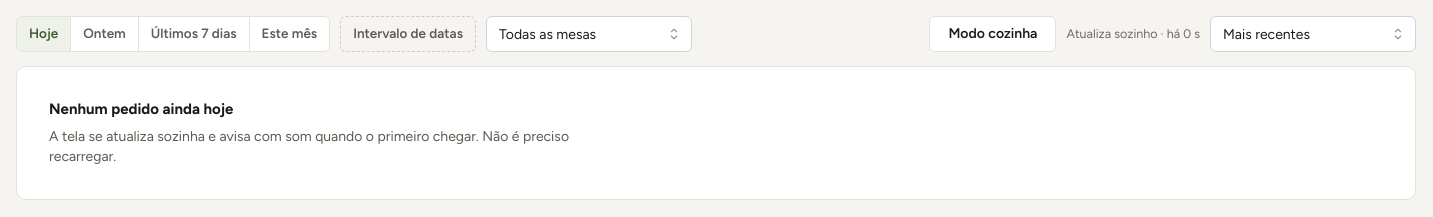
OrdersPage › filtro de mesa só aparece quando a loja tem mesas
The width and height of the screenshot is (1433, 217).
Click the dropdown named "Mesa".
click(589, 34)  # box [486,16,692,52]
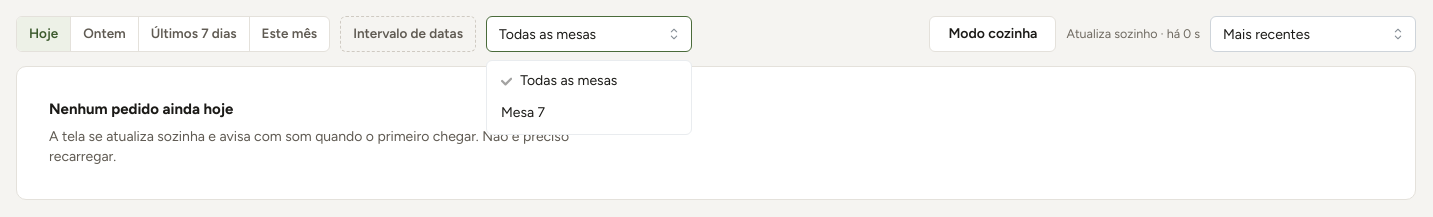
Expected: the option "Mesa 7" is shown, [501,104,545,121]
